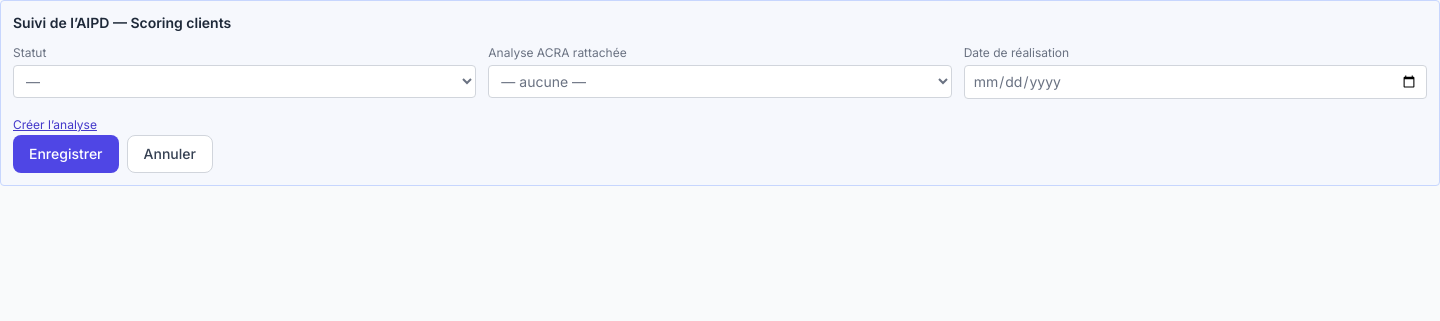
Test: AipdSuiviPanel › « non retenue » : justification demandée ; refus serveur expliqué ; création d’analyse proposée si autorisé
Select "Non retenue" in the dropdown labelled "Statut" at [245, 82], box [13,65,476,98]
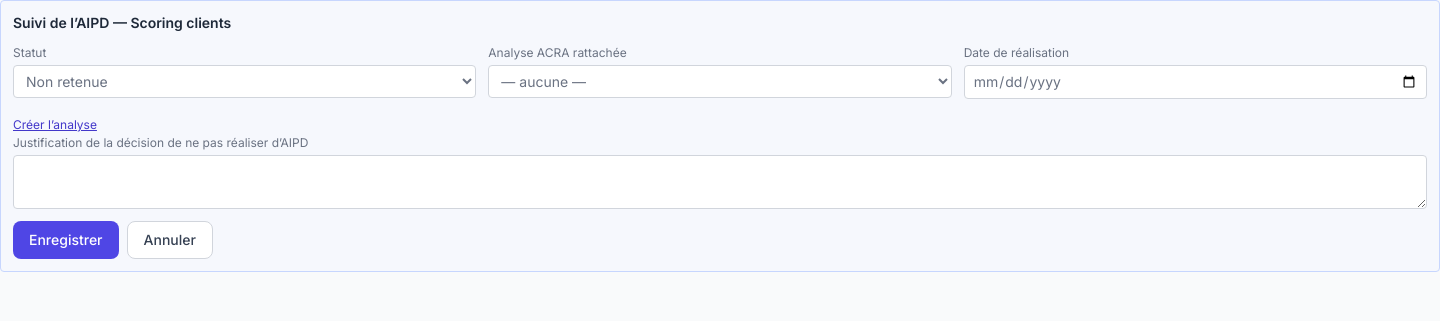
Now the text box labelled "Justification de la décision de ne pas réaliser d’AIPD" is shown, box [13,155,1427,209]
Click the button "Enregistrer" at [66, 240], box [13,221,118,259]
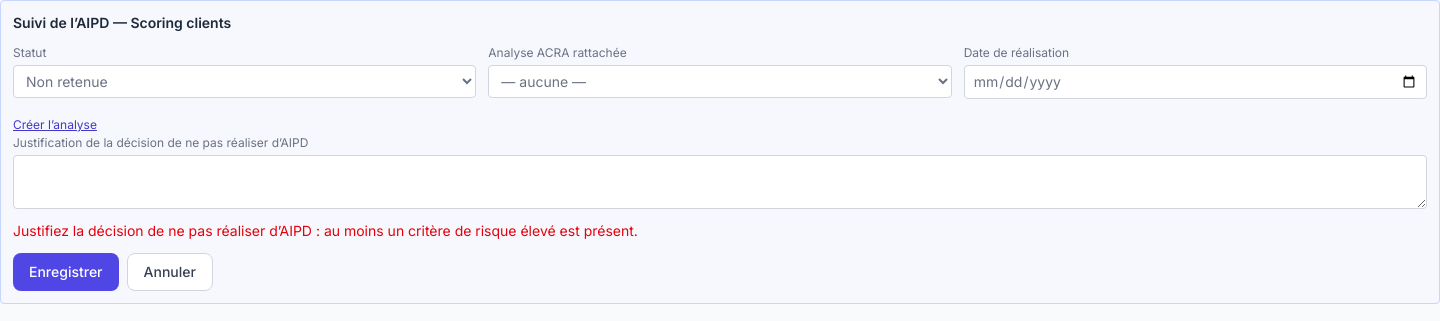
Now the message shows "au moins un critère de risque élevé", box [13,222,638,239]
